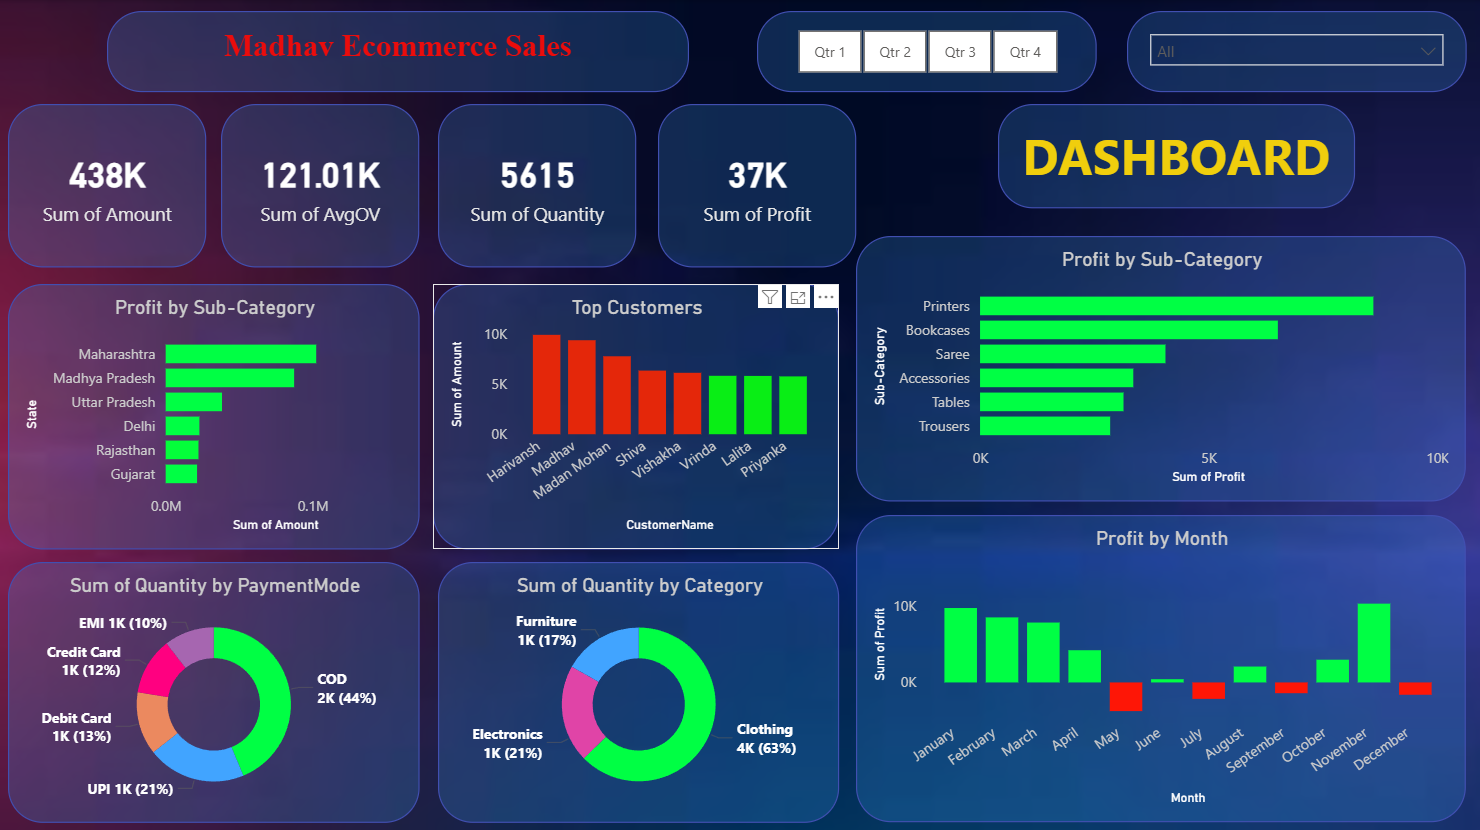

Layout of this report page (visuals, bound fields, positions):
{"tool":"powerbi","page":{"name":"Page 1","canvas":[1280,720],"ordinal":0},"visuals":[{"type":"textbox","box":[94.9,9.8,501.9,70],"z":0},{"type":"columnChart","title":"Profit by Month","fields":{"Y":["Details.Profit"],"Category":["Orders.Order Date.Variation.Date Hierarchy.Month"]},"box":[741.2,444.5,526.2,264.6],"z":1000},{"type":"barChart","title":"Profit by Sub-Category","fields":{"Category":["Details.Sub-Category"],"Y":["Details.Profit"]},"box":[741.2,203.3,526.2,228.6],"z":2000},{"type":"donutChart","fields":{"Category":["Details.Category"],"Y":["Details.Quantity"]},"box":[380.3,484.4,346.3,224.7],"z":3000},{"type":"donutChart","fields":{"Y":["Details.Quantity"],"Category":["Details.PaymentMode"]},"box":[9.7,484.4,355,224.7],"z":4000},{"type":"card","fields":{"Values":["Details.Amount"]},"box":[9.7,89.5,171.2,141],"z":5000},{"type":"card","fields":{"Values":["Details.Quantity"]},"box":[380.3,89.5,171.2,141],"z":6000},{"type":"card","fields":{"Values":["Details.Profit"]},"box":[570,89.5,171.2,141],"z":7000},{"type":"card","fields":{"Values":["Details.AvgOV"]},"box":[193.6,89.5,171.2,141],"z":8000},{"type":"barChart","title":"Profit by Sub-Category","fields":{"Category":["Orders.State"],"Y":["Details.Amount"]},"box":[9.7,245.1,355,228.6],"z":9000},{"type":"columnChart","title":"Top Customers","fields":{"Category":["Orders.CustomerName"],"Y":["Details.Amount"]},"box":[376.4,245.1,350.2,228.6],"z":10000},{"type":"textbox","box":[863.6,89.6,307.7,89.6],"z":11000},{"type":"slicer","fields":{"Values":["Orders.Order Date.Variation.Date Hierarchy.Quarter"]},"box":[655.3,9.8,292.6,70],"z":11001},{"type":"slicer","fields":{"Values":["Orders.State"]},"box":[974.5,9.8,292.6,70],"z":11002}]}

Visuals, with their boxes in screenshot pixels (x1, y1, x2, y2), scaled from the page's 1280x720 canvas onto the 1480x830 screenshot:
textbox: [left=110, top=11, right=690, bottom=92]
"Profit by Month" columnChart: [left=857, top=512, right=1465, bottom=817]
"Profit by Sub-Category" barChart: [left=857, top=234, right=1465, bottom=498]
donutChart - Details.Category x Details.Quantity: [left=440, top=558, right=840, bottom=817]
donutChart - Details.Quantity x Details.PaymentMode: [left=11, top=558, right=422, bottom=817]
card - Details.Amount: [left=11, top=103, right=209, bottom=266]
card - Details.Quantity: [left=440, top=103, right=638, bottom=266]
card - Details.Profit: [left=659, top=103, right=857, bottom=266]
card - Details.AvgOV: [left=224, top=103, right=422, bottom=266]
"Profit by Sub-Category" barChart: [left=11, top=283, right=422, bottom=546]
"Top Customers" columnChart: [left=435, top=283, right=840, bottom=546]
textbox: [left=999, top=103, right=1354, bottom=207]
slicer - Orders.Order Date.Variation.Date Hierarchy.Quarter: [left=758, top=11, right=1096, bottom=92]
slicer - Orders.State: [left=1127, top=11, right=1465, bottom=92]
